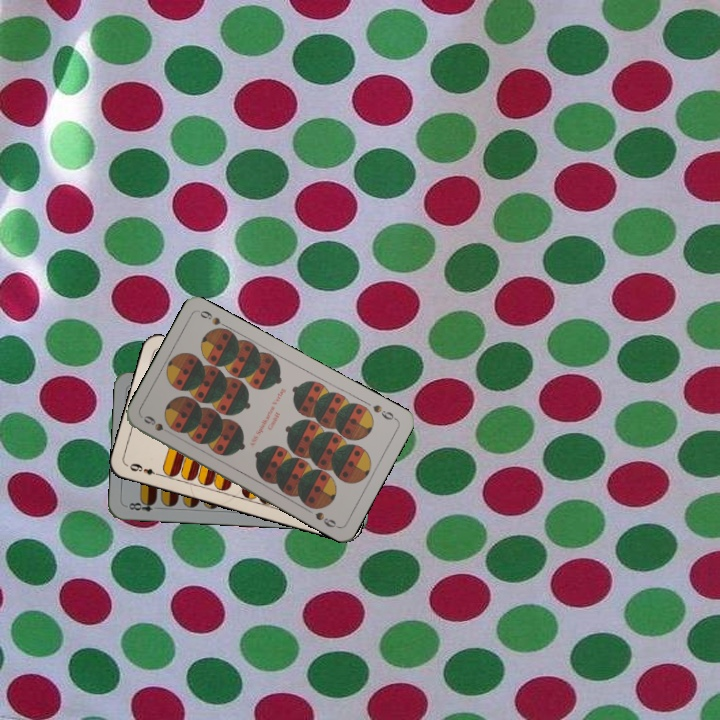E8: (123, 497, 158, 514)
E9: (124, 459, 164, 479)
S9: (139, 411, 176, 438), (369, 400, 399, 423)
